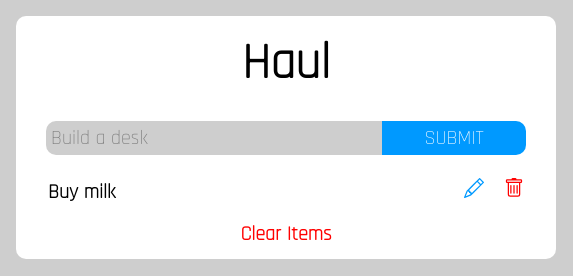
Scenario: HaulPage › behavior › removing an item › should remove the item from the list
The image size is (573, 276).
Click the button named "Remove Buy milk".
click(504, 188)  # box x1=484 y1=178 x2=524 y2=198
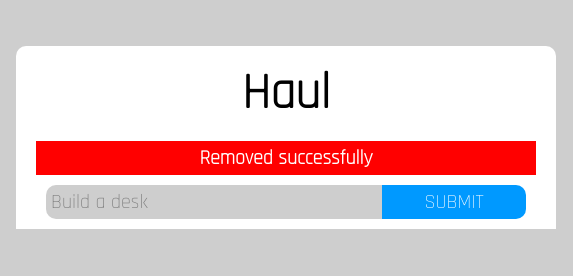
Now the heading "Buy milk" is gone
